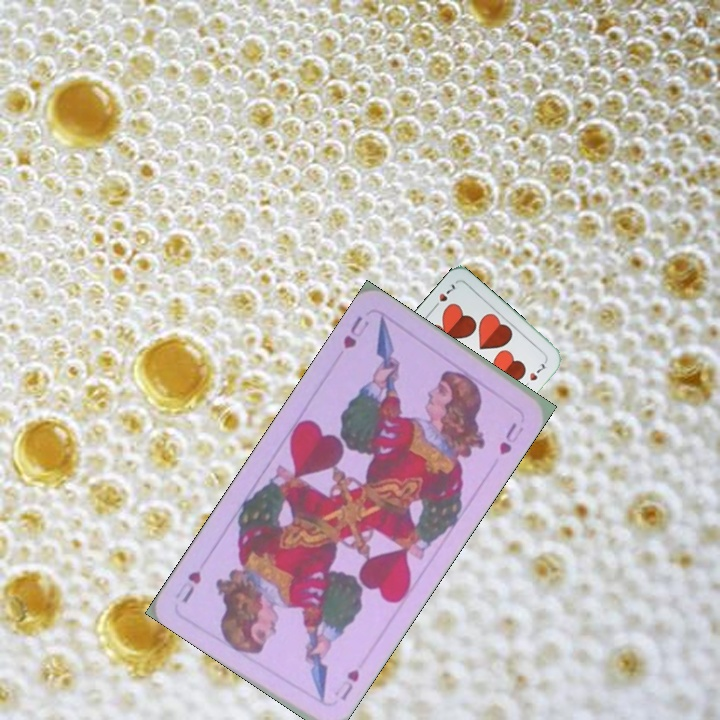H7: (428, 279, 460, 313)
HU: (339, 311, 372, 352), (329, 665, 362, 704)
